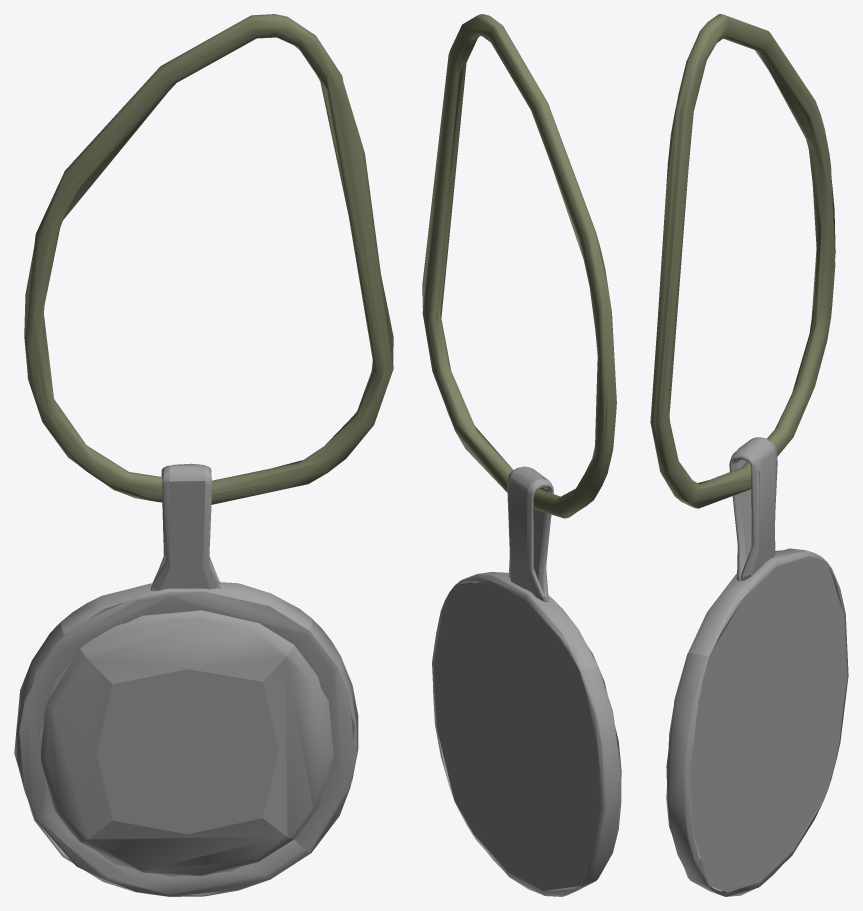
The model's file is medal.glb.
The picture shows the model from 3 angles, left to right: view 1: azimuth 30°, elevation 25°; view 2: azimuth 150°, elevation 25°; view 3: azimuth 270°, elevation 25°; orthographic projection. The views are drawn at different scales.
Parts seen in each view (by area): view 1: Cylinder.002; view 2: Cylinder.002; view 3: Cylinder.002.
Part boxes in pixels (x1=…): Cylinder.002: x1=14, y1=14, x2=393, y2=896; Cylinder.002: x1=422, y1=14, x2=621, y2=896; Cylinder.002: x1=650, y1=14, x2=848, y2=896.
Bounding box in the file's own units: 0.1309 × 0.3763 × 0.076.
